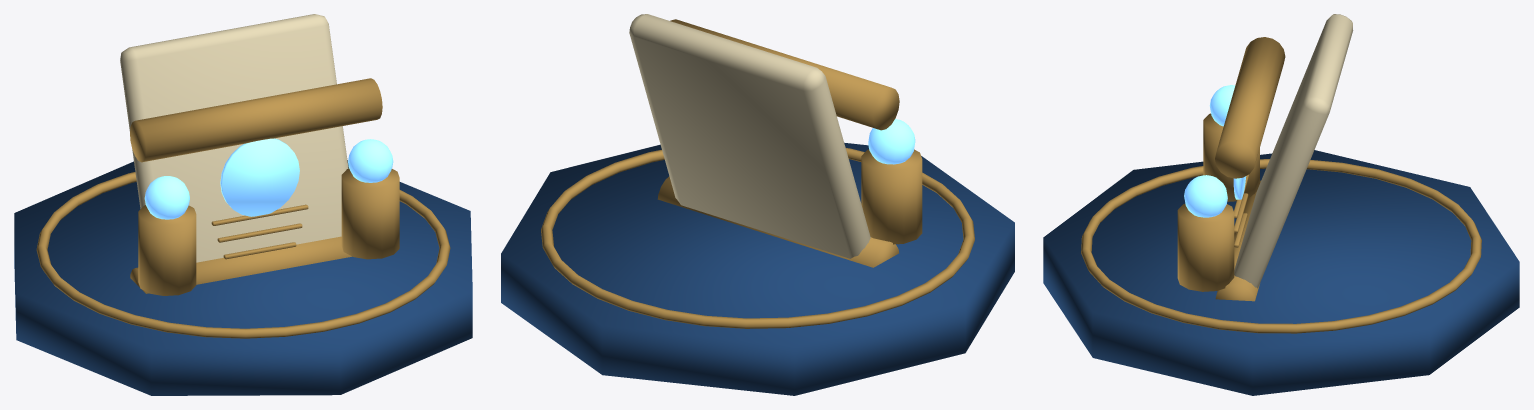
3 views of the same model, side by side, from view 1: azimuth 30°, elevation 25°; view 2: azimuth 150°, elevation 25°; view 3: azimuth 270°, elevation 25° (orthographic). The views are drawn at different scales.
Visible parts, largest first — view 1: Hexagonal plinth, Parchment, Binding.001, Inlaid rim, 3B embossed seal, Tactical token, Tactical token.001, Binding, Tactical head, Tactical head.001, Embossed line, Embossed line.001 (+1 smaller); view 2: Hexagonal plinth, Parchment, Inlaid rim, Tactical token, Binding.001, Tactical head, Binding; view 3: Hexagonal plinth, Parchment, Inlaid rim, Binding.001, Tactical token.001, Tactical token, Tactical head.001, Binding, Tactical head.
Boxes of the visible parts, x1,y1,x2,y2 form: Hexagonal plinth: (14, 160, 472, 395); Parchment: (120, 14, 348, 262); Binding.001: (130, 78, 382, 162); Inlaid rim: (36, 172, 450, 338); 3B embossed seal: (220, 138, 299, 216); Tactical token: (138, 205, 196, 295); Tactical token.001: (341, 168, 399, 259); Binding: (130, 236, 351, 293); Tactical head: (144, 176, 189, 219); Tactical head.001: (348, 139, 393, 182); Embossed line: (211, 204, 308, 225); Embossed line.001: (217, 223, 302, 242); Hexagonal plinth: (501, 142, 1014, 395); Parchment: (629, 14, 870, 258); Inlaid rim: (541, 148, 974, 328); Tactical token: (861, 149, 922, 244); Binding.001: (670, 19, 899, 130); Tactical head: (868, 119, 915, 164); Binding: (657, 176, 898, 267); Hexagonal plinth: (1043, 150, 1519, 395); Parchment: (1234, 14, 1353, 288); Inlaid rim: (1081, 159, 1481, 333); Binding.001: (1215, 37, 1285, 178); Tactical token.001: (1177, 203, 1234, 291); Tactical token: (1203, 113, 1259, 201); Tactical head.001: (1184, 175, 1227, 217); Binding: (1215, 180, 1261, 301); Tactical head: (1209, 85, 1235, 126).
Size of the model in its own units: 1.51 by 0.8899 by 1.51.
